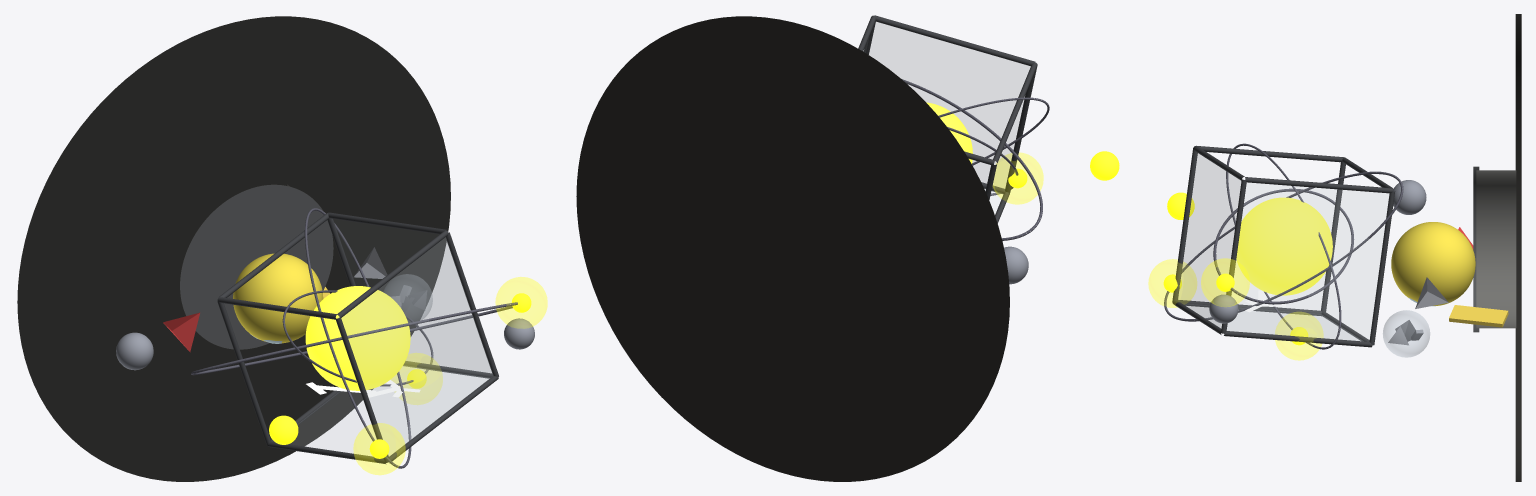
File: crypto_hero_scene.glb
3 views of the same model, side by side, from view 1: azimuth 30°, elevation 25°; view 2: azimuth 150°, elevation 25°; view 3: azimuth 270°, elevation 25° (orthographic). The views are drawn at different scales.
Visible parts, largest first — view 1: large round black website stage, three transparent smoky cube panels, slightly wider pedestal lip, tilted black wireframe glass cube, central glowing crypto orb, transparent glow halo (×3), yellow and blue globe sphere, outer diagonal orbit, steep vertical orbit, lower left black chrome sphere, small lower right display bubble, upper right black chrome sphere (+5 smaller); view 2: large round black website stage, three transparent smoky cube panels, tilted black wireframe glass cube, transparent glow halo, outer diagonal orbit, central glowing crypto orb, upper left yellow floating sphere, lower left black chrome sphere; view 3: three transparent smoky cube panels, tilted black wireframe glass cube, central glowing crypto orb, raised graphite pedestal, transparent glow halo (×3), yellow and blue globe sphere, large round black website stage, small lower right display bubble, steep vertical orbit, outer diagonal orbit, leaning yellow rectangular crypto card, low sweeping orbit (+6 smaller).
Part boxes in pixels (box(x1,y1,x2,y2)): large round black website stage: box(17, 16, 450, 481); three transparent smoky cube panels: box(291, 219, 493, 456); slightly wider pedestal lip: box(180, 184, 333, 349); tilted black wireframe glass cube: box(217, 212, 498, 464); central glowing crypto orb: box(305, 286, 410, 390); transparent glow halo (×3): box(353, 277, 547, 474); yellow and blue globe sphere: box(233, 253, 323, 343); outer diagonal orbit: box(191, 302, 517, 375); steep vertical orbit: box(304, 208, 411, 468); lower left black chrome sphere: box(116, 332, 153, 370); small lower right display bubble: box(384, 274, 432, 322); upper right black chrome sphere: box(504, 318, 534, 349); large round black website stage: box(576, 16, 1009, 481); three transparent smoky cube panels: box(864, 22, 1029, 213); tilted black wireframe glass cube: box(858, 15, 1037, 223); transparent glow halo: box(993, 152, 1043, 204); outer diagonal orbit: box(902, 79, 1042, 240); central glowing crypto orb: box(926, 102, 972, 163); upper left yellow floating sphere: box(1090, 151, 1119, 180); lower left black chrome sphere: box(1004, 246, 1028, 284); three transparent smoky cube panels: box(1177, 152, 1388, 341); tilted black wireframe glass cube: box(1172, 145, 1395, 347); central glowing crypto orb: box(1236, 197, 1332, 295); raised graphite pedestal: box(1476, 170, 1516, 328); transparent glow halo (×3): box(1148, 258, 1323, 360); yellow and blue globe sphere: box(1391, 222, 1475, 305); large round black website stage: box(1515, 14, 1521, 481); small lower right display bubble: box(1383, 310, 1429, 357); steep vertical orbit: box(1164, 171, 1403, 321); outer diagonal orbit: box(1213, 188, 1354, 304); leaning yellow rectangular crypto card: box(1449, 305, 1508, 327); low sweeping orbit: box(1226, 143, 1341, 349).
Size of the model in its own units: 6.1 by 6.1 by 4.87.
